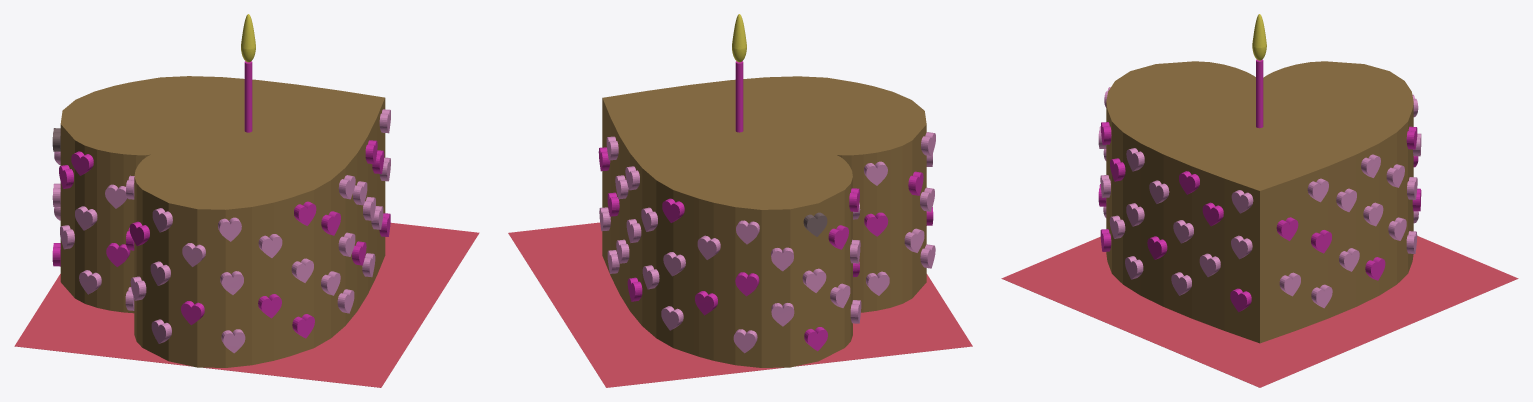
File: chocolate.glb
The picture shows the model from 3 angles, left to right: view 1: azimuth 30°, elevation 25°; view 2: azimuth 150°, elevation 25°; view 3: azimuth 270°, elevation 25°; orthographic projection. The views are drawn at different scales.
Visible parts, largest first — view 1: Mesh_Mesh_head_geo.001_lambert2SG.001; view 2: Mesh_Mesh_head_geo.001_lambert2SG.001; view 3: Mesh_Mesh_head_geo.001_lambert2SG.001.
Part boxes in pixels (box(x1,y1,x2,y2)): Mesh_Mesh_head_geo.001_lambert2SG.001: box(14, 14, 479, 387); Mesh_Mesh_head_geo.001_lambert2SG.001: box(508, 14, 972, 387); Mesh_Mesh_head_geo.001_lambert2SG.001: box(1001, 14, 1518, 387).
Bounding box in the file's own units: 0.0354 × 0.02 × 0.0354.
